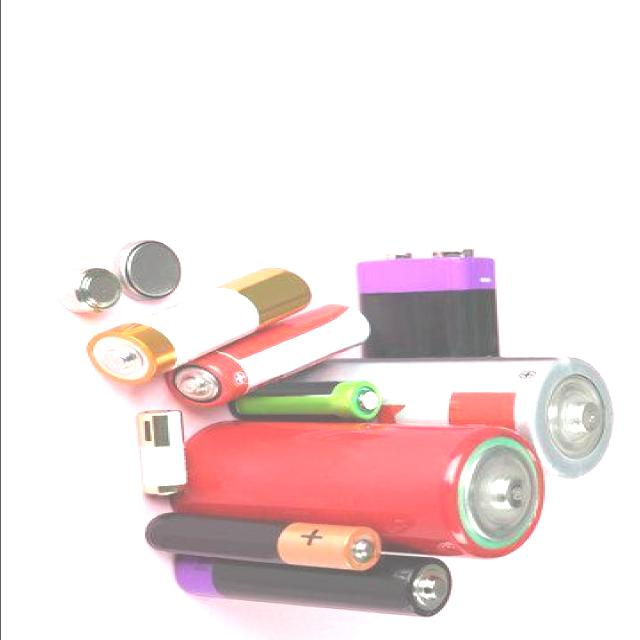AA: (82, 264, 314, 388), (162, 302, 372, 409), (138, 510, 383, 571)
COIN: (108, 239, 184, 303), (52, 266, 125, 316)
